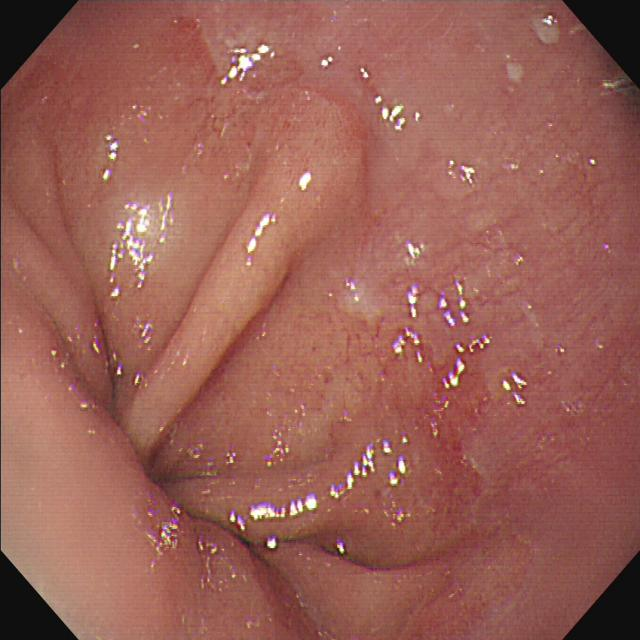I: (2, 2, 517, 626)
U: (231, 436, 411, 533), (110, 192, 175, 301), (440, 280, 491, 389), (391, 287, 424, 365), (219, 43, 276, 87), (246, 214, 279, 268), (297, 174, 313, 192)
